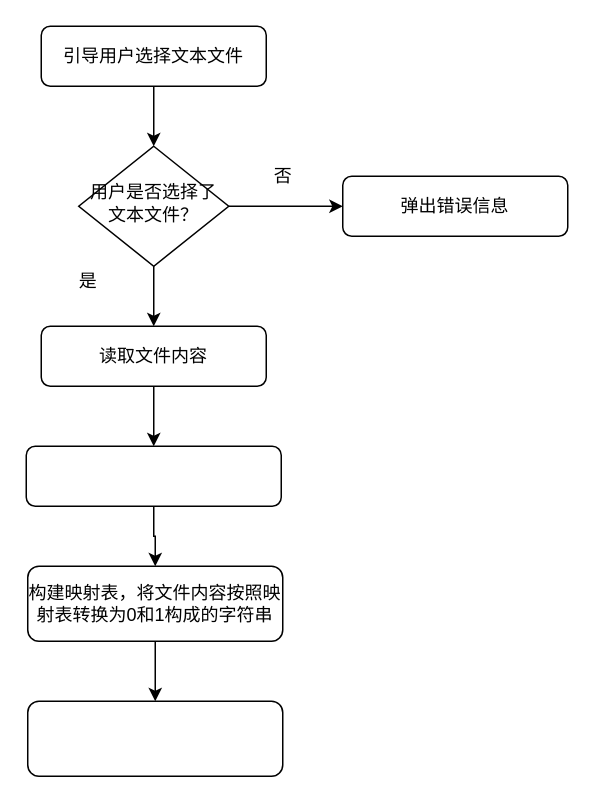
This 594x803 diagram has some shape labels left out. The centre of each missing label's shape, as x and y in pixels:
"将编码结果以二进制形式存入*_result.huf" goes at point 154,738.
"统计字符频度、构建Huffman编码树、得到统计结果" goes at point 153,475.
